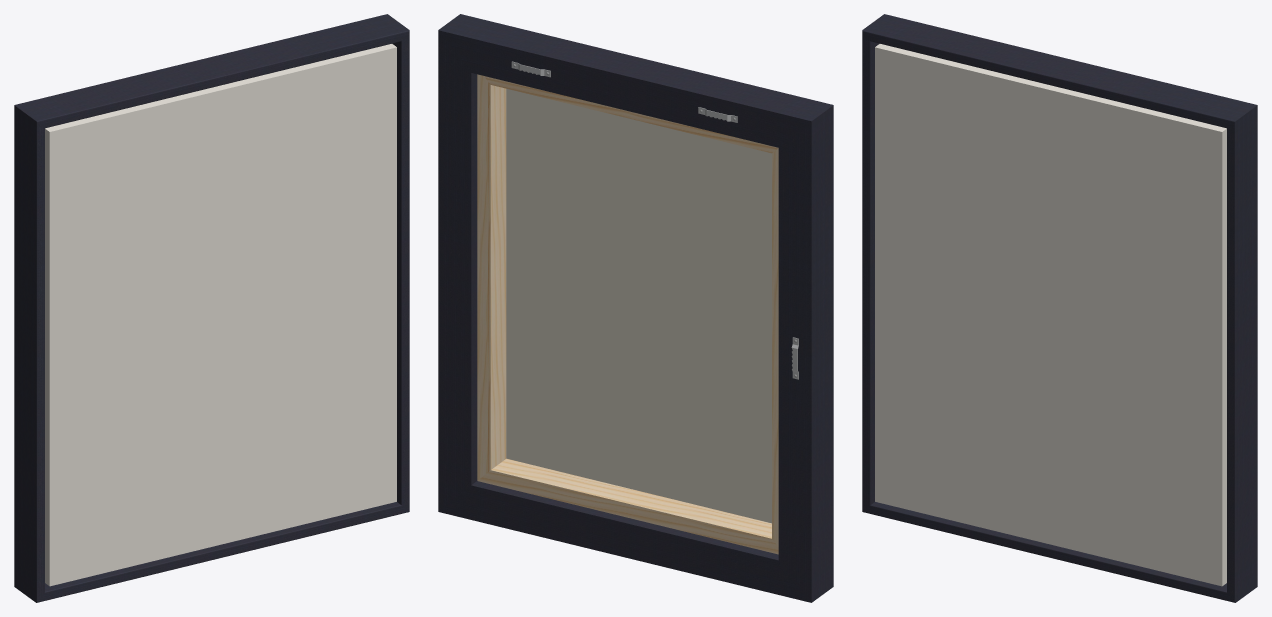
The model's file is decoded-from-delivery.glb.
3 views of the same model, side by side, from view 1: azimuth 30°, elevation 25°; view 2: azimuth 150°, elevation 25°; view 3: azimuth 330°, elevation 25° (orthographic).
Parts seen in each view (by area): view 1: Canvas artwork front, Tray approved profile 0; view 2: Canvas linen reverse, Tray approved profile 0, Stretcher top, Sawtooth hanger 0; view 3: Canvas artwork front, Tray approved profile 0.
Boxes of the visible parts, x1,y1,x2,y2 form: Canvas artwork front: (45, 44, 396, 586); Tray approved profile 0: (14, 14, 409, 602); Canvas linen reverse: (506, 88, 771, 523); Tray approved profile 0: (438, 14, 833, 602); Stretcher top: (477, 74, 778, 554); Sawtooth hanger 0: (511, 61, 798, 379); Canvas artwork front: (875, 44, 1226, 586); Tray approved profile 0: (862, 14, 1257, 602).
Bounding box in the file's own units: 0.43 × 0.53 × 0.0474.
7 materials, 3 textured.
